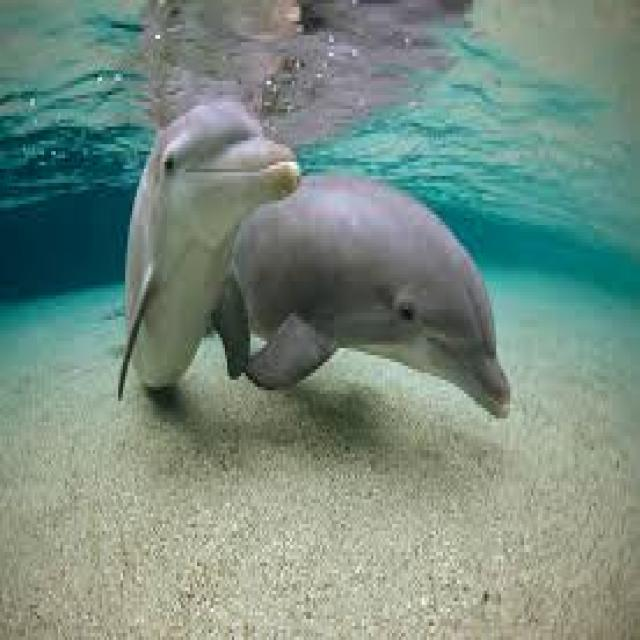dolphin: (239, 18, 552, 616), (84, 63, 299, 524)
